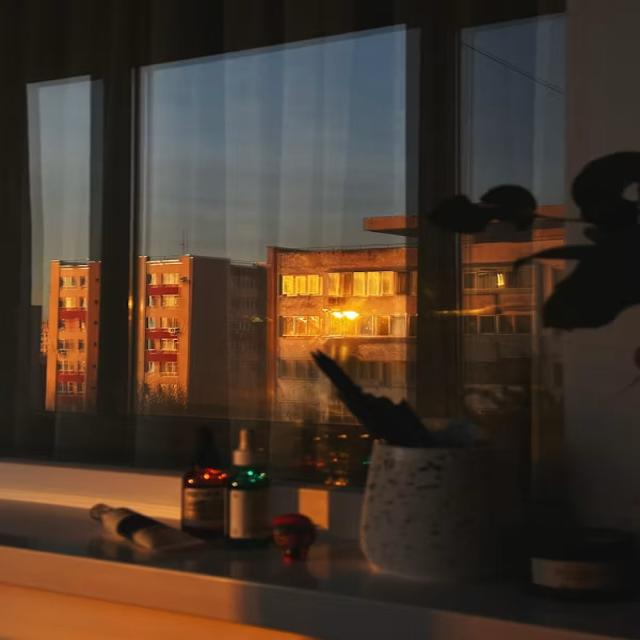Bottle: (90, 504, 203, 550), (182, 428, 228, 538), (227, 429, 270, 546)
